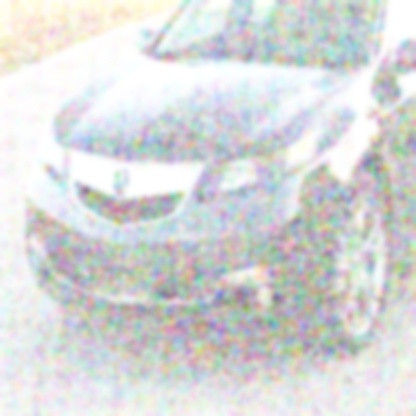Vehicle: (22, 3, 415, 357)
